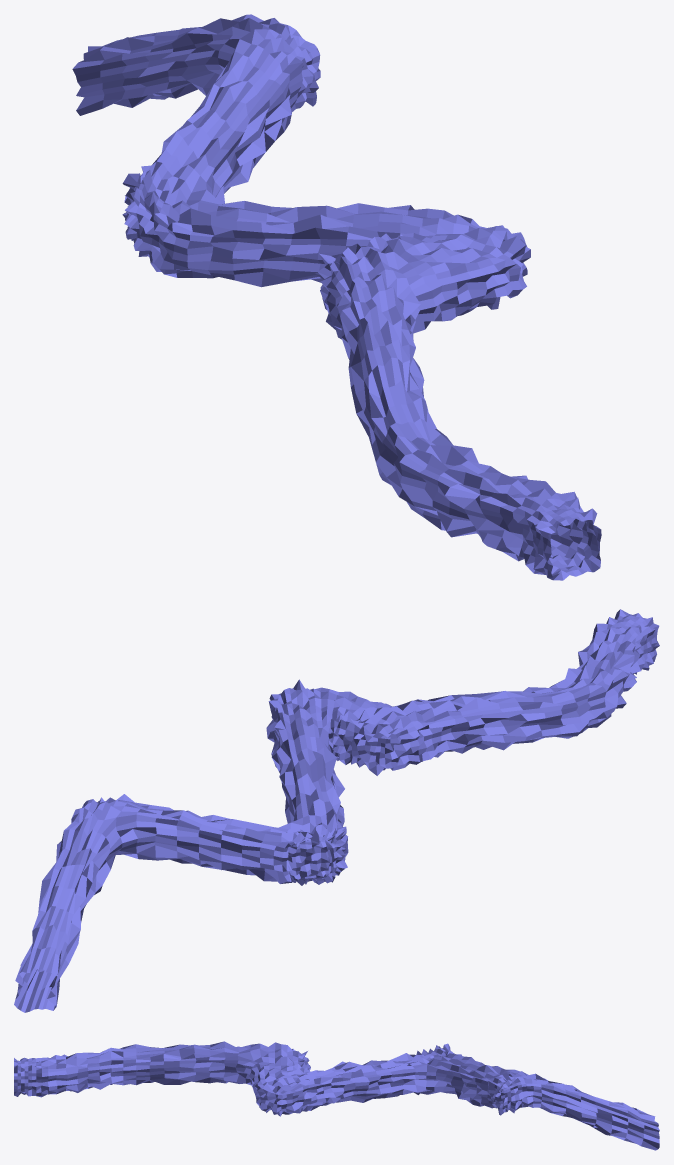
File: Cave_Final.fbx
3 views of the same model, one above another, from view 1: azimuth 30°, elevation 25°; view 2: azimuth 150°, elevation 25°; view 3: azimuth 270°, elevation 25° (orthographic). The views are drawn at different scales.
Parts seen in each view (by area): view 1: Cubo; view 2: Cubo; view 3: Cubo.
Part boxes in pixels (box(x1,y1,x2,y2)): Cubo: box(72, 14, 601, 580); Cubo: box(14, 609, 659, 1012); Cubo: box(14, 1041, 659, 1150).
Bounding box in the file's own units: 1235 × 4507 × 652.
